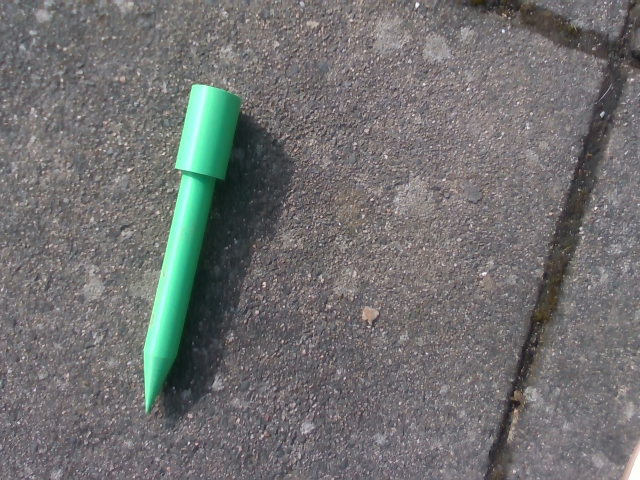Probe: (137, 80, 248, 419)
